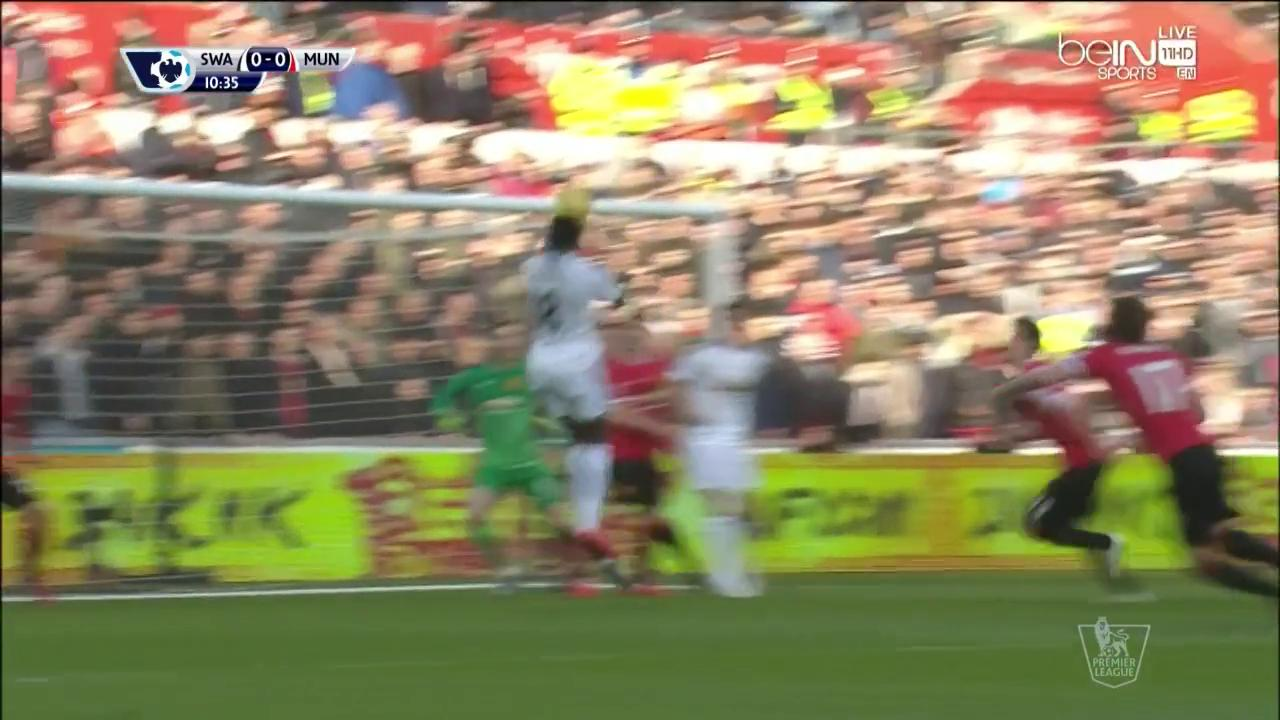football: (556, 182, 592, 215)
